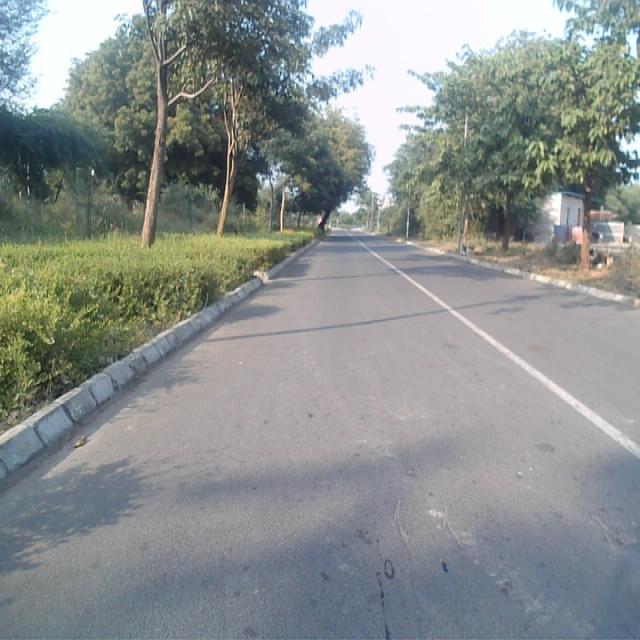lane: (0, 241, 640, 640)
